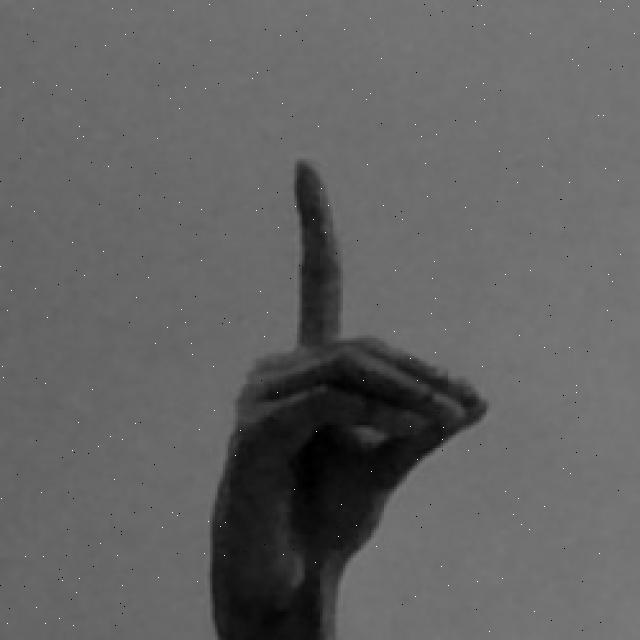D: (207, 156, 489, 640)
